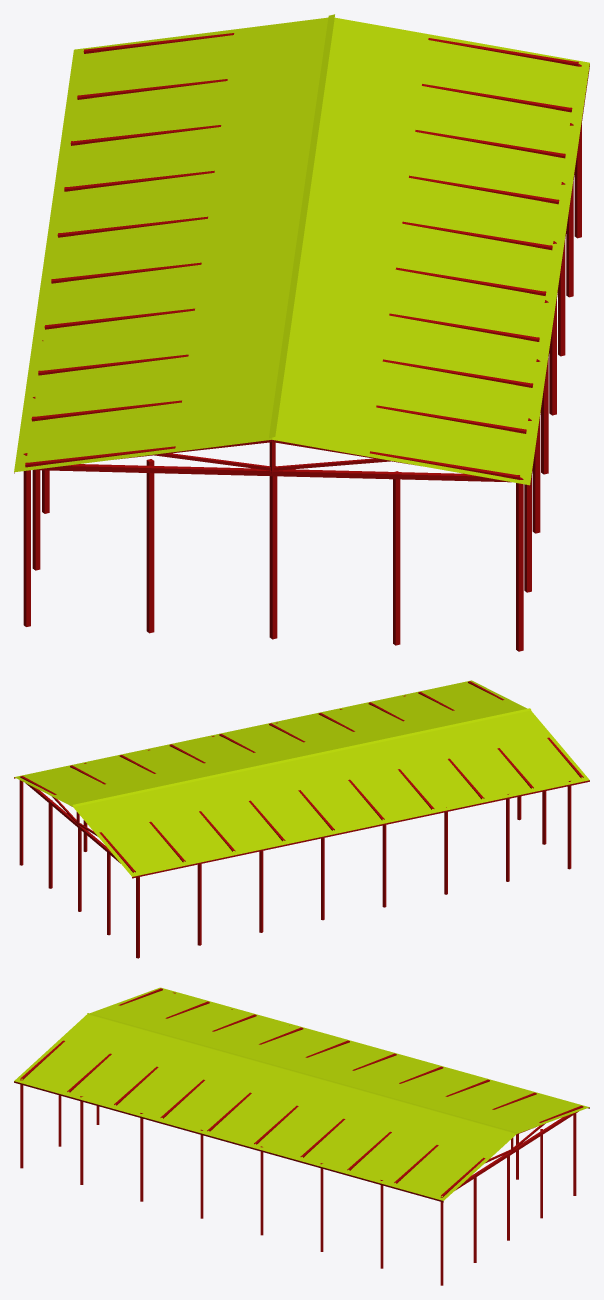
File: lpa_0.glb
The picture shows the model from 3 angles, top to bottom: view 1: azimuth 30°, elevation 25°; view 2: azimuth 150°, elevation 25°; view 3: azimuth 270°, elevation 25°; orthographic projection. The views are drawn at different scales.
Visible parts, largest first — view 1: lpa_0; view 2: lpa_0; view 3: lpa_0.
Boxes of the visible parts, x1,y1,x2,y2 form: lpa_0: (14,14,589,651); lpa_0: (14,680,589,958); lpa_0: (14,987,589,1285).
Bounding box in the file's own units: 35.73 × 8.49 × 40.73.
